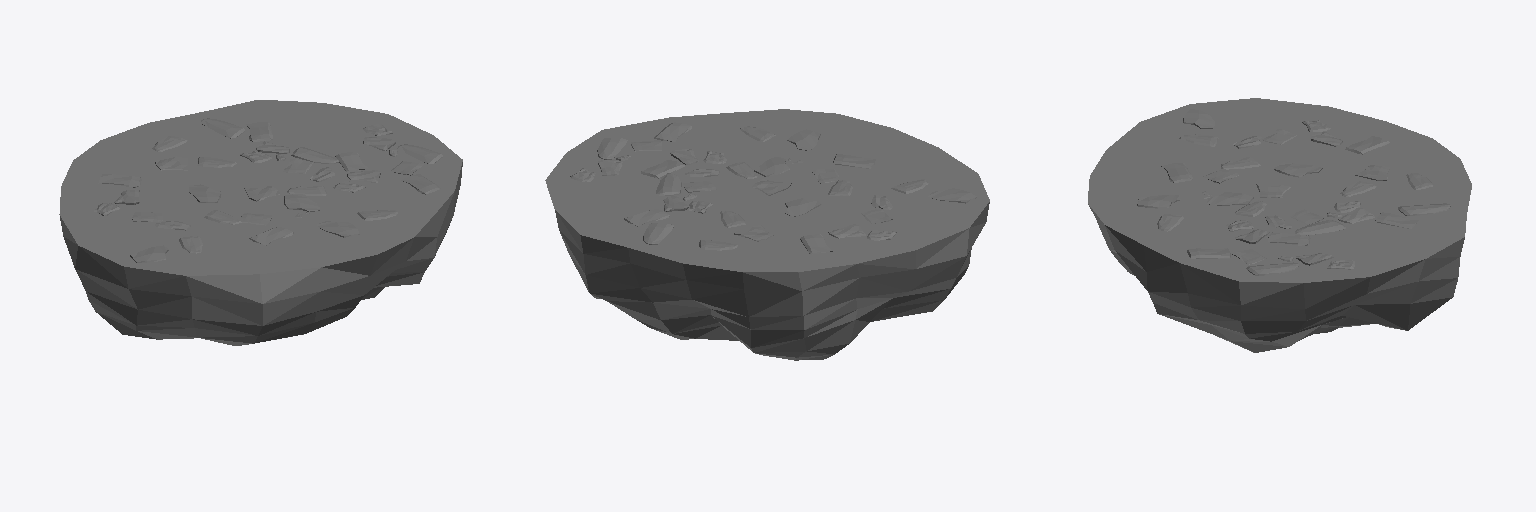
Rendered from Island_L.obj.
3 views of the same model, side by side, from view 1: azimuth 30°, elevation 25°; view 2: azimuth 150°, elevation 25°; view 3: azimuth 270°, elevation 25° (orthographic).
Visible parts, largest first — view 1: L_Island, L_I_Stones; view 2: L_Island, L_I_Stones; view 3: L_Island, L_I_Stones.
Boxes of the visible parts, box(x1,y1,x2,y2) form: L_Island: box(59, 100, 462, 345); L_I_Stones: box(94, 118, 442, 262); L_Island: box(545, 109, 989, 360); L_I_Stones: box(570, 122, 976, 254); L_Island: box(1088, 98, 1471, 352); L_I_Stones: box(1137, 109, 1450, 275).
Bounding box in the file's own units: 11.98 × 4.11 × 10.52.